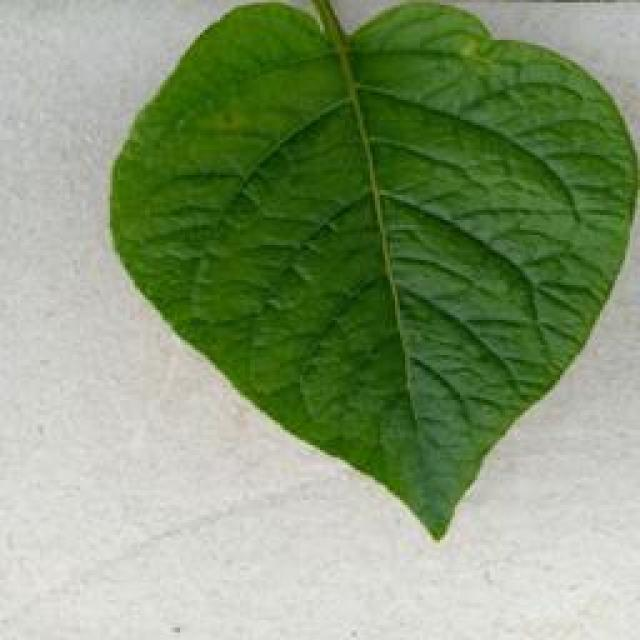healthy: (102, 0, 638, 545)
